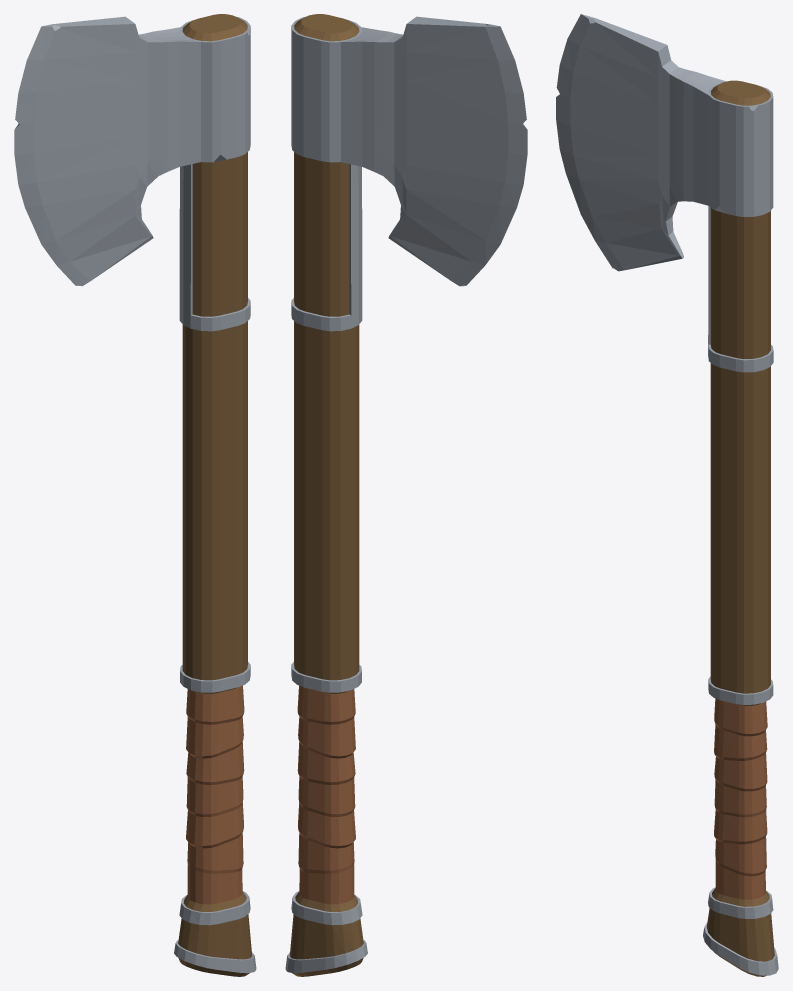
Rendered from Battle axe.fbx.
3 views of the same model, side by side, from view 1: azimuth 30°, elevation 25°; view 2: azimuth 150°, elevation 25°; view 3: azimuth 330°, elevation 25° (orthographic). The views are drawn at different scales.
Parts seen in each view (by area): view 1: Axe 1; view 2: Axe 1; view 3: Axe 1.
Part boxes in pixels (left/top/right/bottom): Axe 1: left=14, top=14, right=256, bottom=976; Axe 1: left=285, top=14, right=527, bottom=976; Axe 1: left=556, top=14, right=778, bottom=976.
Size of the model in its own units: 0.2626 by 1.05 by 0.0544.
